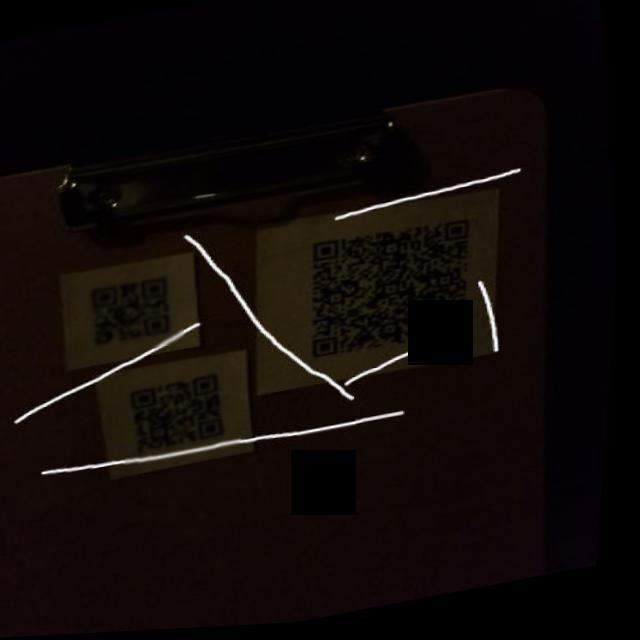QR_CODE: (285, 197, 507, 375), (120, 360, 253, 474), (75, 263, 195, 364)
